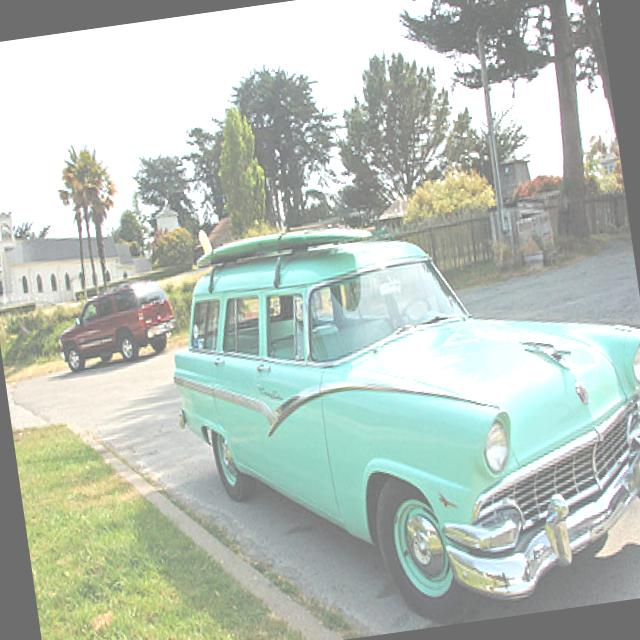Vehicle: (154, 174, 640, 635), (56, 286, 179, 366)
